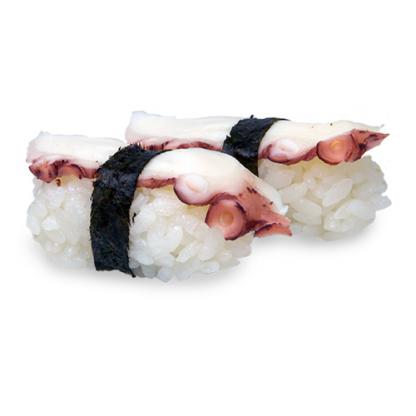tako: (17, 122, 301, 292)
